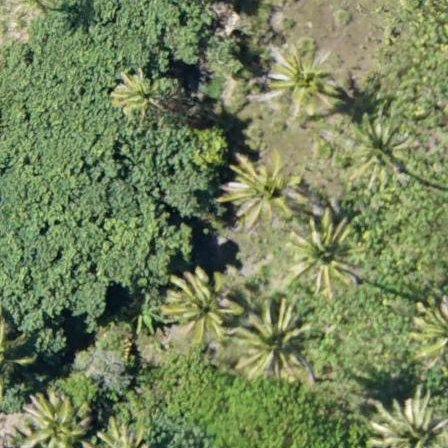palm_tree: (264, 41, 335, 109), (288, 222, 355, 291), (237, 305, 305, 372), (222, 155, 292, 218), (166, 273, 232, 339), (346, 121, 410, 183), (370, 398, 448, 448), (16, 394, 88, 448), (110, 69, 164, 123), (408, 299, 448, 370)
